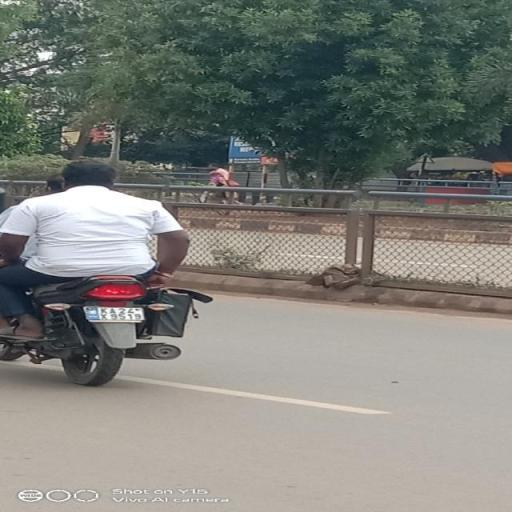bike: (0, 159, 198, 384)
numberplate: (84, 308, 144, 322)
withouthelmet: (63, 160, 116, 186)
